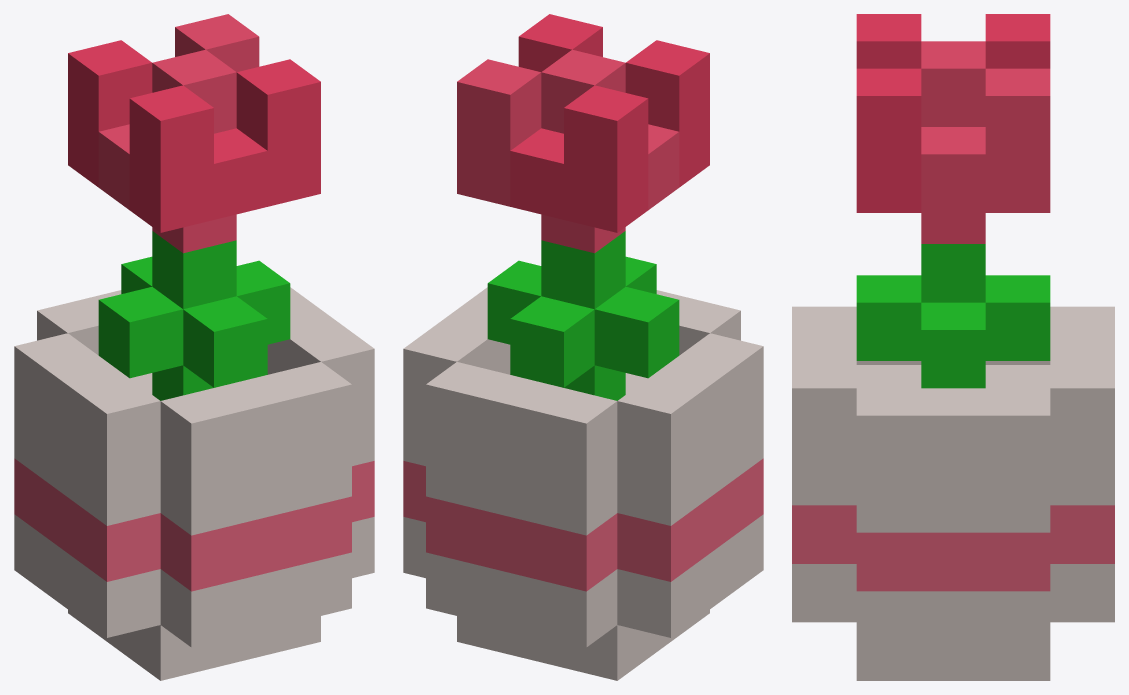
File: Kitchen_cabinets-3.obj
3 renders of one model, left to right at view 1: azimuth 30°, elevation 25°; view 2: azimuth 150°, elevation 25°; view 3: azimuth 270°, elevation 25°, orthographic. The views are drawn at different scales.
Bounding box in the file's own units: 0.5 × 1 × 0.5.
1 material, 1 textured.
